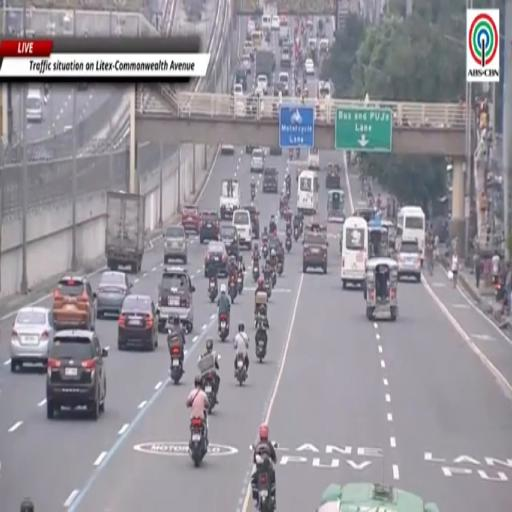bus: (341, 217, 368, 289), (396, 206, 426, 261), (297, 170, 318, 215)
car: (47, 330, 108, 420), (317, 483, 439, 511), (10, 308, 54, 372), (157, 267, 195, 332), (52, 276, 96, 330), (118, 295, 157, 350), (96, 270, 131, 317), (303, 232, 328, 274), (397, 240, 421, 282), (164, 226, 187, 264), (204, 242, 227, 277), (233, 210, 252, 249), (220, 224, 239, 258), (200, 211, 220, 243), (243, 205, 260, 238), (181, 205, 200, 234), (262, 168, 278, 193), (326, 164, 341, 188), (234, 69, 247, 94), (251, 148, 264, 173), (354, 207, 374, 222), (278, 72, 289, 94), (306, 221, 326, 233), (242, 40, 254, 60), (256, 74, 267, 94), (240, 54, 251, 74), (318, 82, 330, 99), (281, 47, 290, 68), (221, 143, 235, 155), (319, 39, 329, 54), (305, 59, 314, 75), (262, 14, 271, 30), (233, 83, 243, 97), (247, 19, 255, 35), (271, 15, 280, 29), (308, 38, 317, 51), (246, 144, 257, 154), (270, 147, 282, 155), (306, 15, 313, 28), (280, 15, 288, 26)
motorcycle: (256, 455, 275, 511), (189, 419, 207, 467), (202, 372, 216, 412), (170, 345, 183, 385), (255, 319, 267, 362), (236, 355, 247, 386), (219, 314, 229, 341), (229, 276, 237, 303), (209, 279, 217, 302), (237, 270, 243, 294), (265, 280, 272, 298), (284, 207, 292, 222), (285, 237, 292, 253), (262, 243, 269, 259), (253, 263, 259, 281), (271, 269, 276, 287), (277, 262, 283, 276), (294, 227, 299, 242), (286, 183, 290, 200), (286, 226, 291, 237), (251, 188, 255, 201), (289, 150, 293, 159), (296, 149, 300, 158)
truck: (105, 191, 145, 273), (220, 179, 240, 220), (255, 50, 275, 87)
